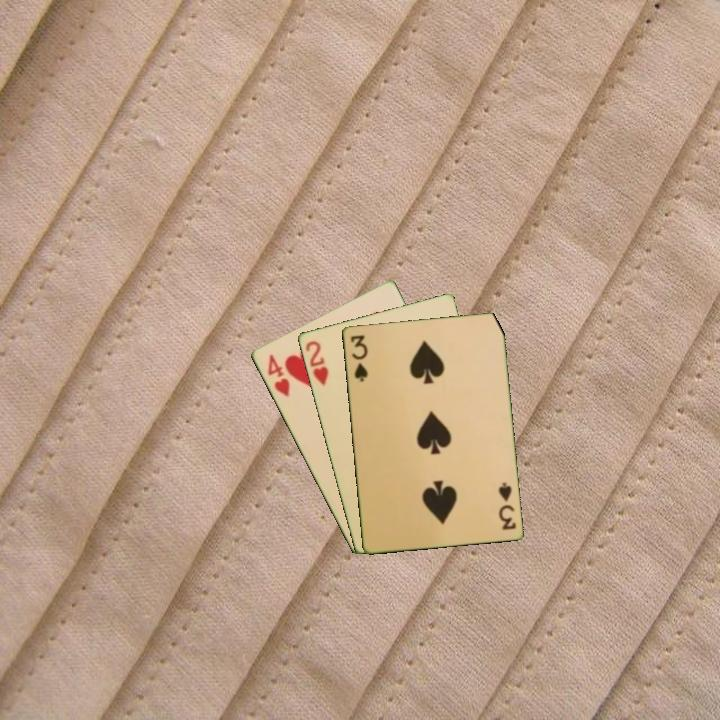2h: (302, 337, 331, 388)
3s: (495, 478, 518, 533), (347, 331, 370, 384)
4h: (264, 351, 292, 400)
